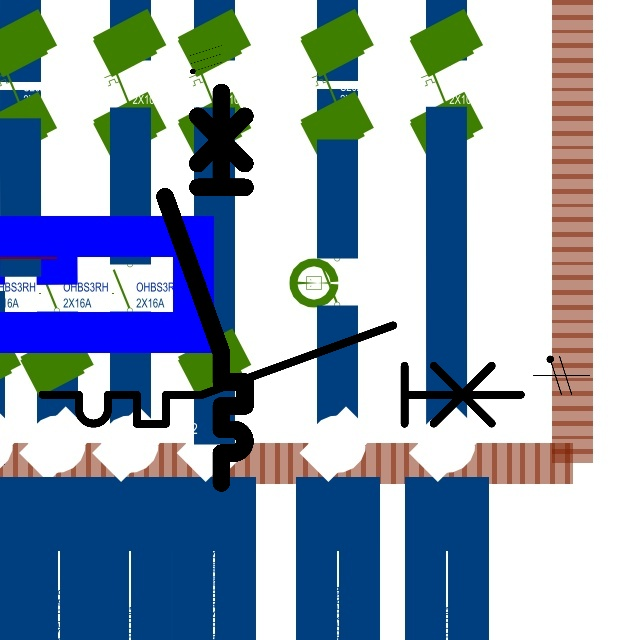interruptor_termomagnetico: (30, 313, 533, 436), (155, 82, 255, 493)
